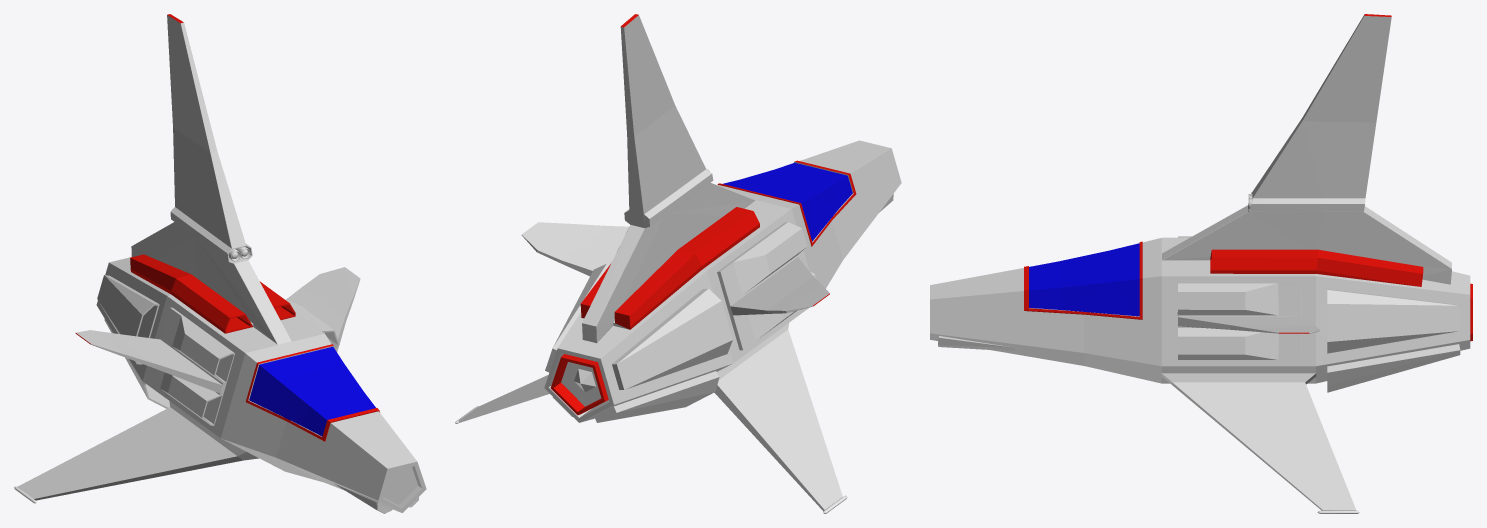
Rendered from buzzer-lp.fbx.
3 views of the same model, side by side, from view 1: azimuth 30°, elevation 25°; view 2: azimuth 150°, elevation 25°; view 3: azimuth 270°, elevation 25° (orthographic). The views are drawn at different scales.
Parts seen in each view (by area): view 1: Buzzer.Mesh; view 2: Buzzer.Mesh; view 3: Buzzer.Mesh.
Part boxes in pixels (left/top/right/bottom): Buzzer.Mesh: left=14, top=14, right=426, bottom=513; Buzzer.Mesh: left=455, top=14, right=901, bottom=513; Buzzer.Mesh: left=930, top=14, right=1472, bottom=513.
Bounding box in the file's own units: 506 × 596 × 703.
